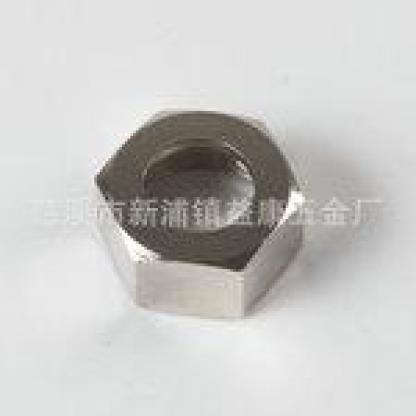FOD: (84, 107, 306, 323)
